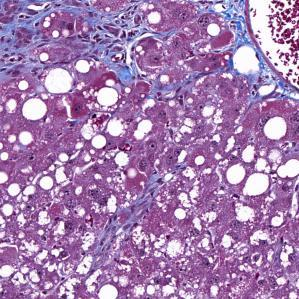fibrosis: (70, 10, 152, 69), (0, 9, 50, 78), (215, 0, 253, 56)
